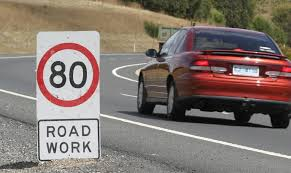sp80: (35, 42, 100, 110)
